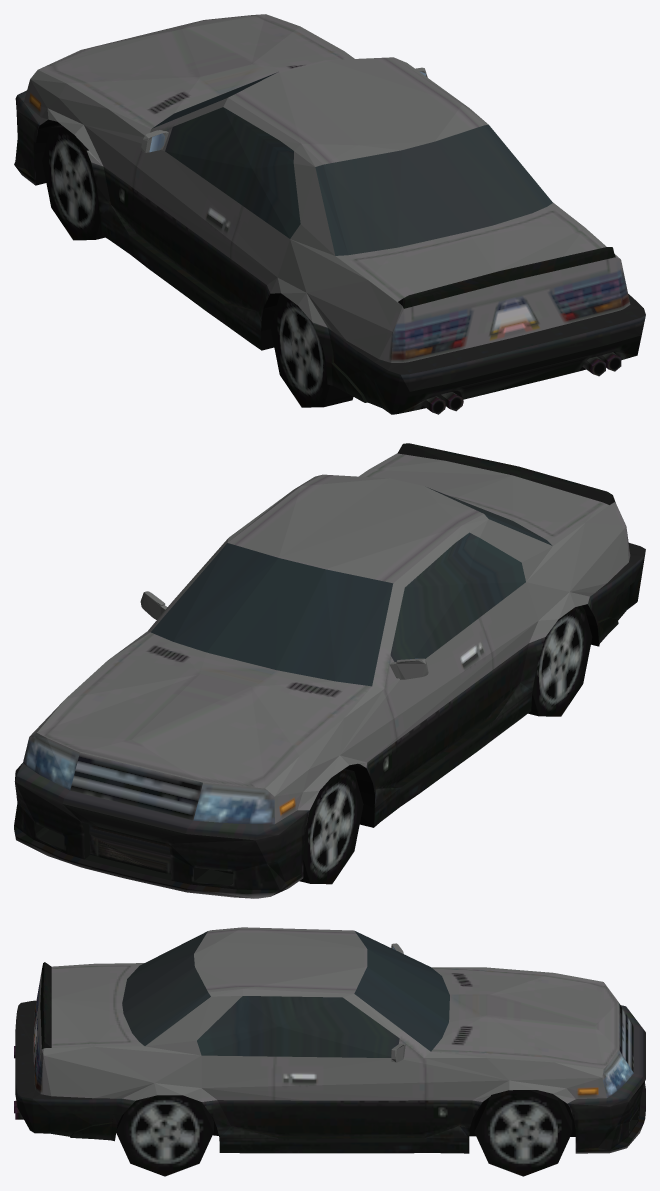
The model's file is car_4.fbx.
3 views of the same model, one above another, from view 1: azimuth 30°, elevation 25°; view 2: azimuth 150°, elevation 25°; view 3: azimuth 270°, elevation 25° (orthographic). The views are drawn at different scales.
Parts seen in each view (by area): view 1: car1_Material01_0; view 2: car1_Material01_0; view 3: car1_Material01_0.
Boxes of the visible parts, x1=… form: car1_Material01_0: x1=14, y1=14, x2=645, y2=414; car1_Material01_0: x1=14, y1=443, x2=645, y2=898; car1_Material01_0: x1=14, y1=927, x2=645, y2=1176.
Bounding box in the file's own units: 887 × 639 × 2162.
1 material, 1 textured.
